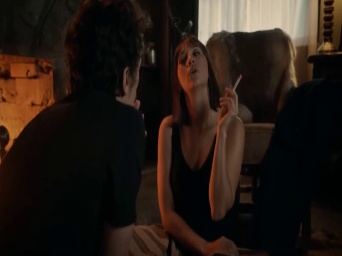smoke: (228, 72, 242, 101)
